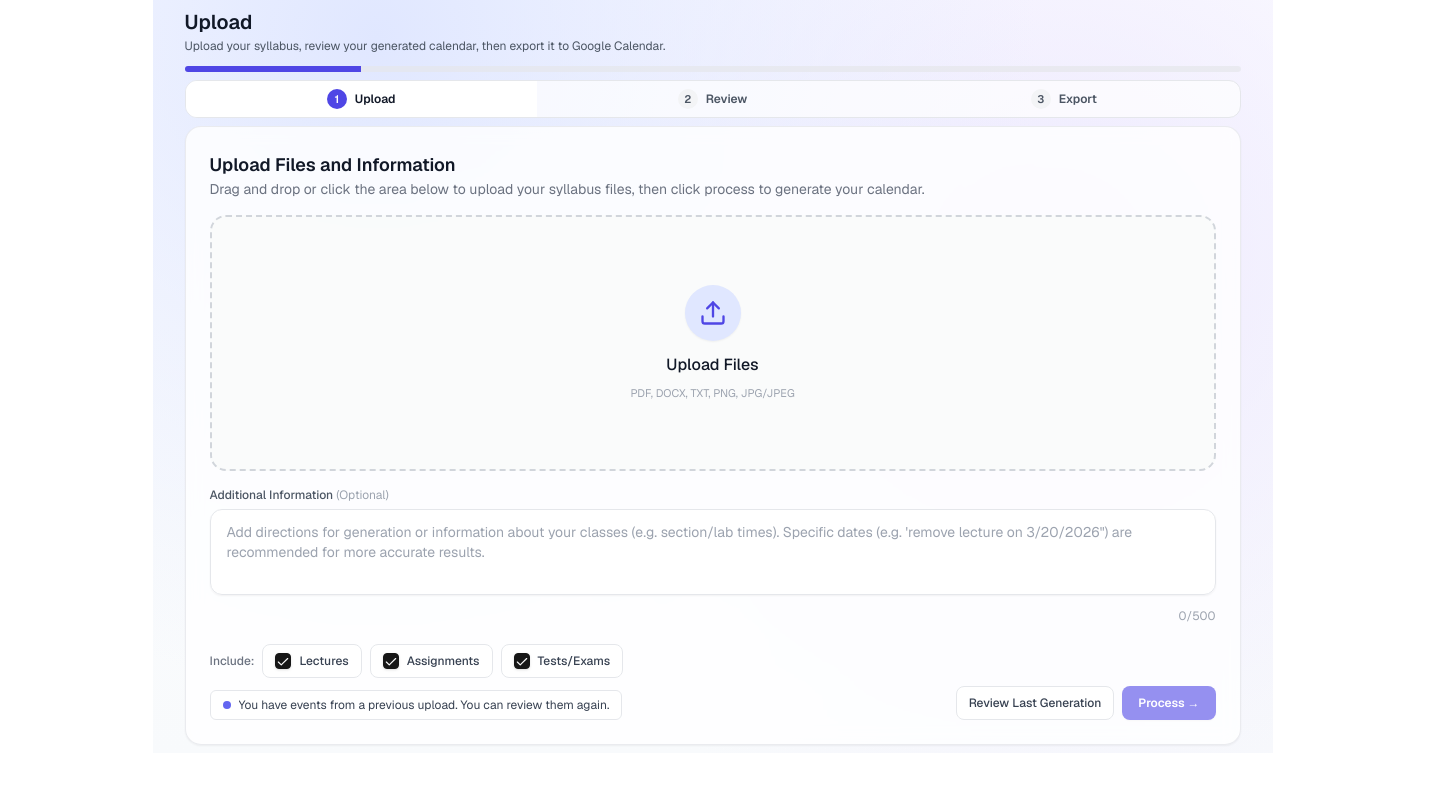
Test: Uploads unit tests › Step 2 - Review panel › category filter buttons › clicking 'All' after a filter restores all events
The width and height of the screenshot is (1440, 810).
Click the button "2 Review". click: [712, 99]
box: x1=537 y1=81 x2=888 y2=117
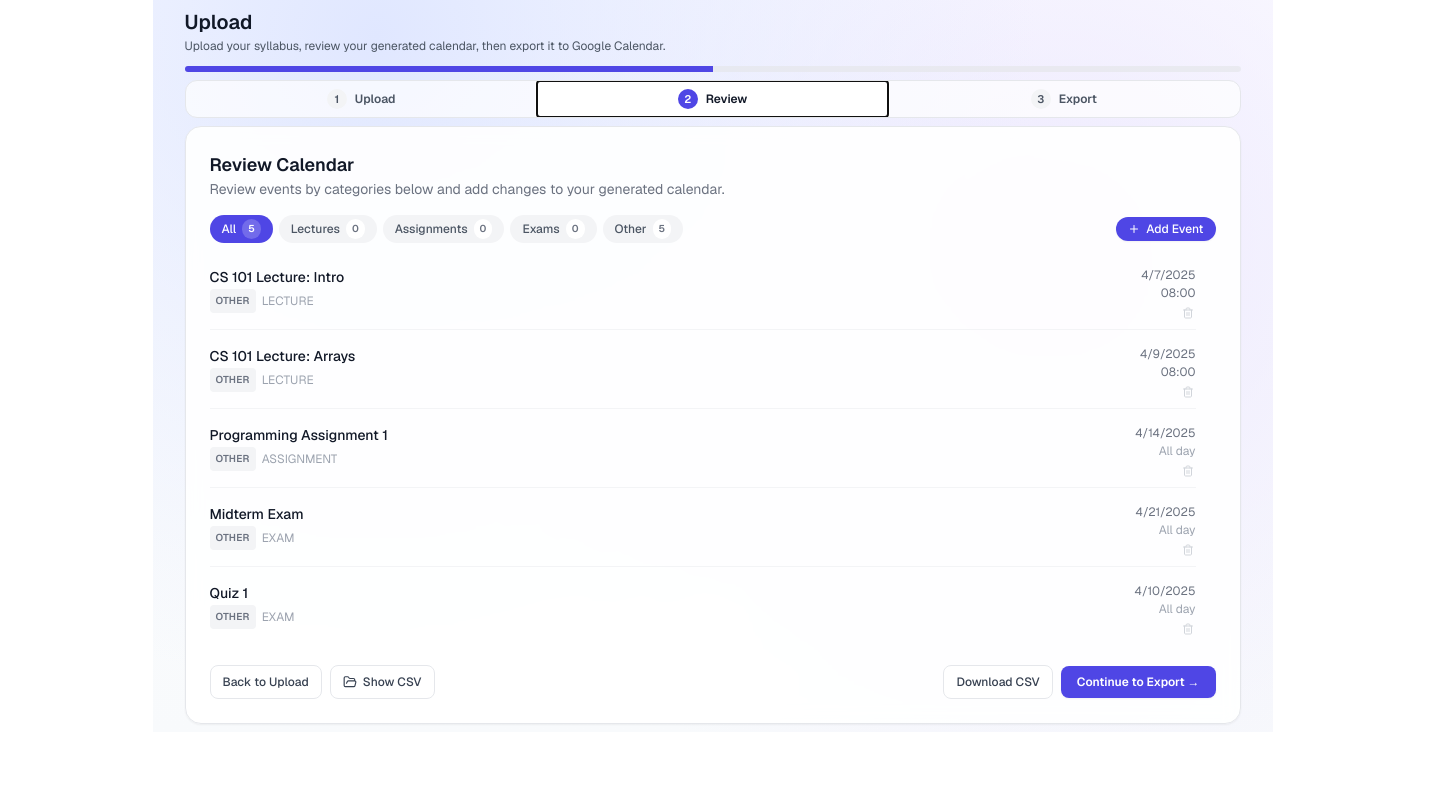
Click the button "Lectures 0". click: [328, 229]
box: x1=279 y1=215 x2=377 y2=243
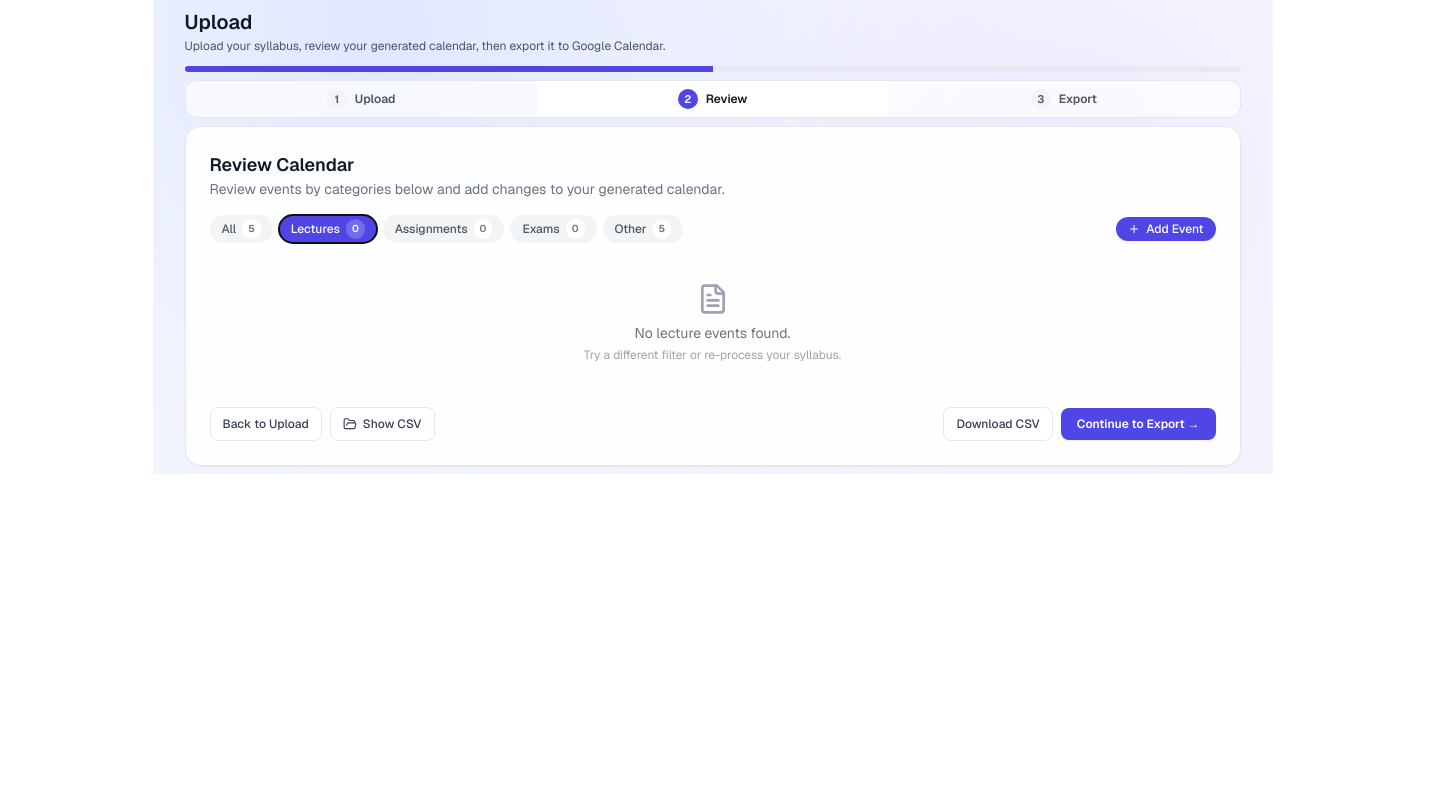
Click the button "All 5". click: [241, 229]
box: x1=210 y1=215 x2=273 y2=243
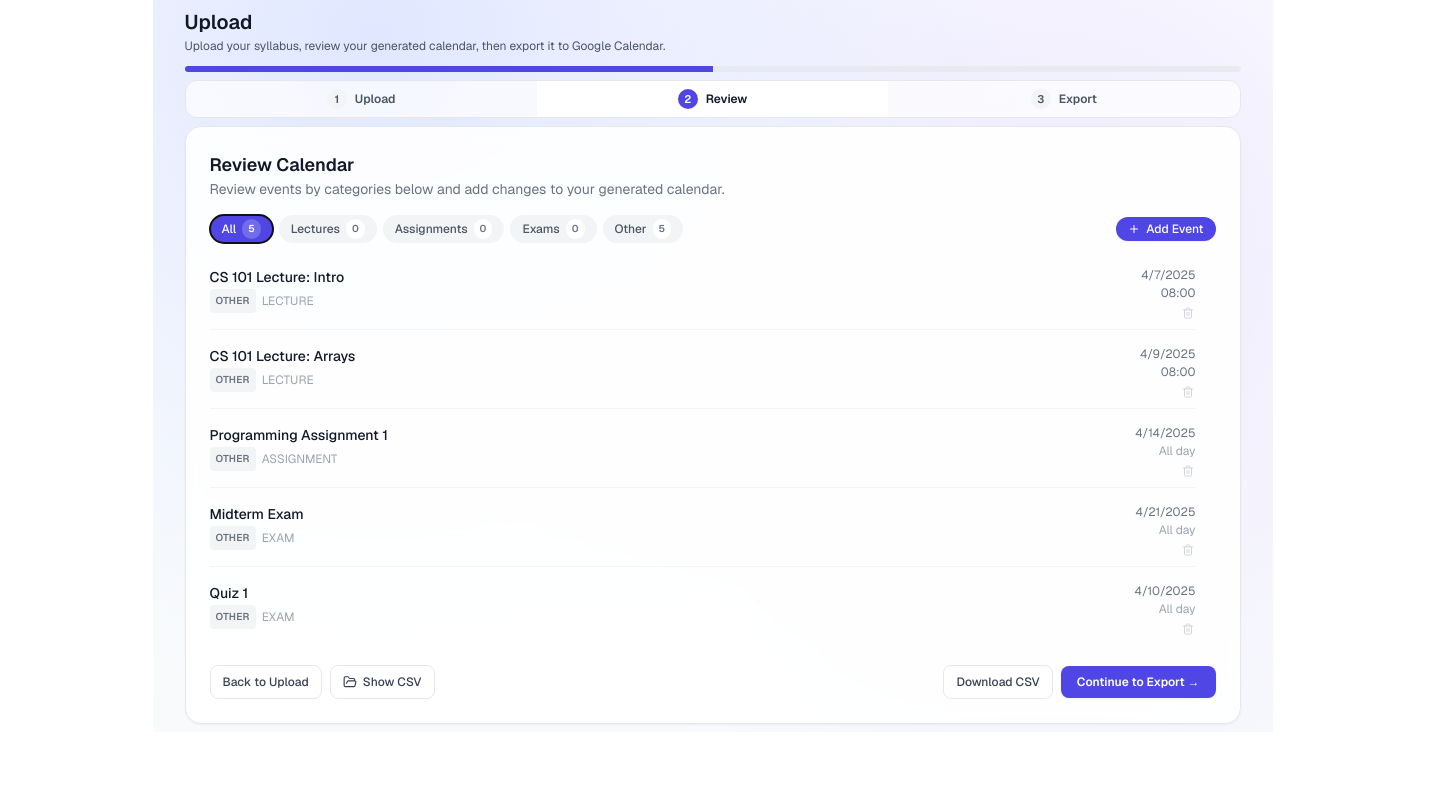
Now the text "CS 101 Lecture: Intro" is shown, box x1=210 y1=268 x2=344 y2=286
Now the text "CS 101 Lecture: Arrays" is shown, box x1=210 y1=347 x2=355 y2=365
Now the text "Programming Assignment 1" is shown, box x1=210 y1=426 x2=388 y2=444
